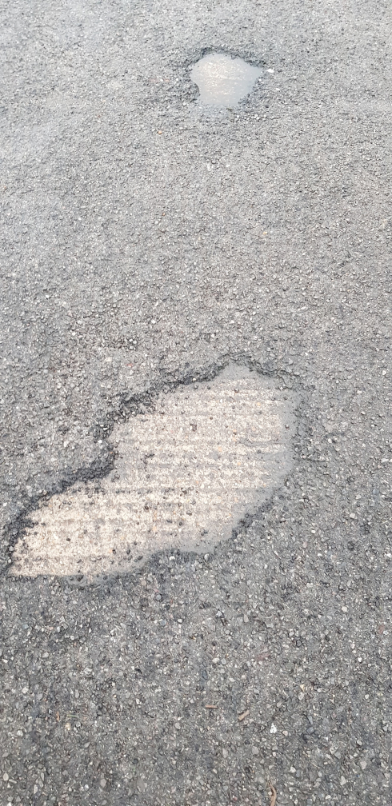pothole: (1, 344, 314, 593), (177, 44, 270, 116)
